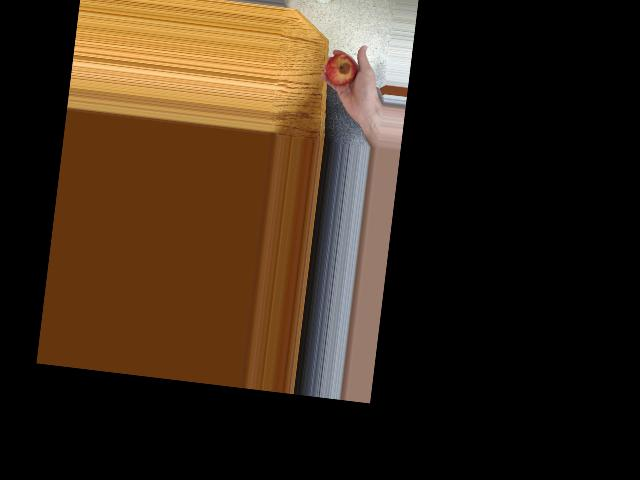apple: (324, 50, 362, 91)
